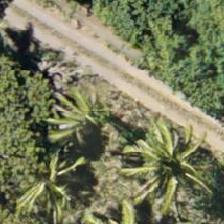coconut_tree: (42, 67, 132, 157), (120, 124, 210, 214), (4, 136, 94, 223)
